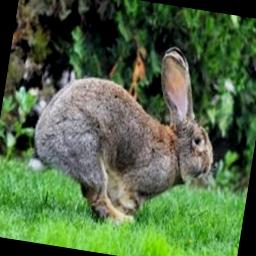rabbit: (33, 46, 212, 223)
